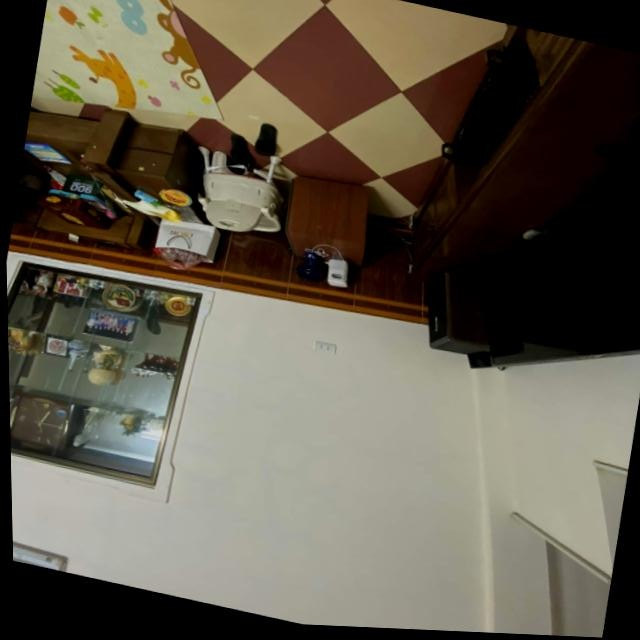outlet: (313, 338, 338, 355)
